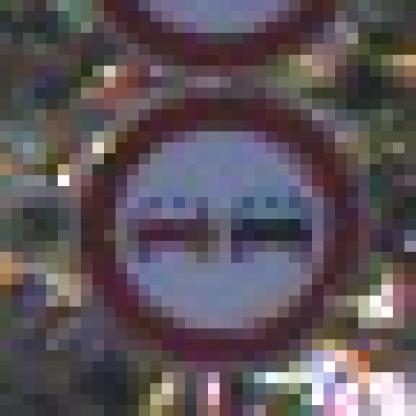No Overtaking: (59, 67, 348, 351)
